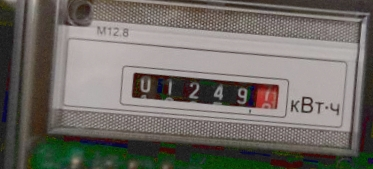0: (138, 72, 153, 94)
1: (163, 75, 175, 95)
2: (187, 78, 202, 100)
4: (212, 81, 225, 101)
7: (260, 82, 274, 102)
9: (234, 84, 250, 106)
screen: (111, 56, 290, 123)
